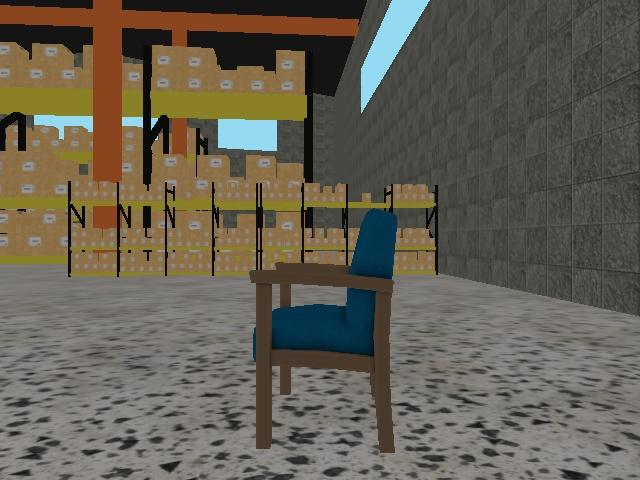chair: (245, 204, 399, 457)
